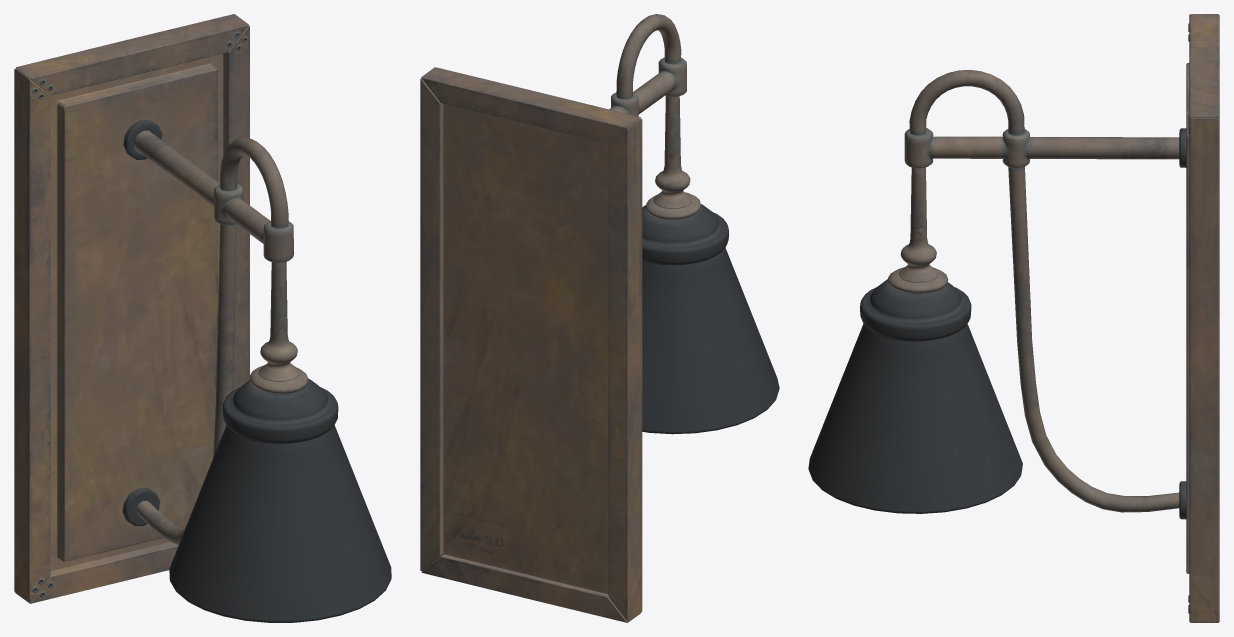
File: industrial_wall_sconce.glb
The picture shows the model from 3 angles, left to right: view 1: azimuth 30°, elevation 25°; view 2: azimuth 150°, elevation 25°; view 3: azimuth 270°, elevation 25°; orthographic projection. The views are drawn at different scales.
Visible parts, largest first — view 1: industrial_wall_sconce; view 2: industrial_wall_sconce; view 3: industrial_wall_sconce.
Boxes of the visible parts, <box> form: industrial_wall_sconce: <box>14,14,391,622</box>; industrial_wall_sconce: <box>420,14,779,622</box>; industrial_wall_sconce: <box>808,14,1219,622</box>.
Size of the model in its own units: 0.1503 by 0.3418 by 0.2516.
2 materials, 2 textured.
